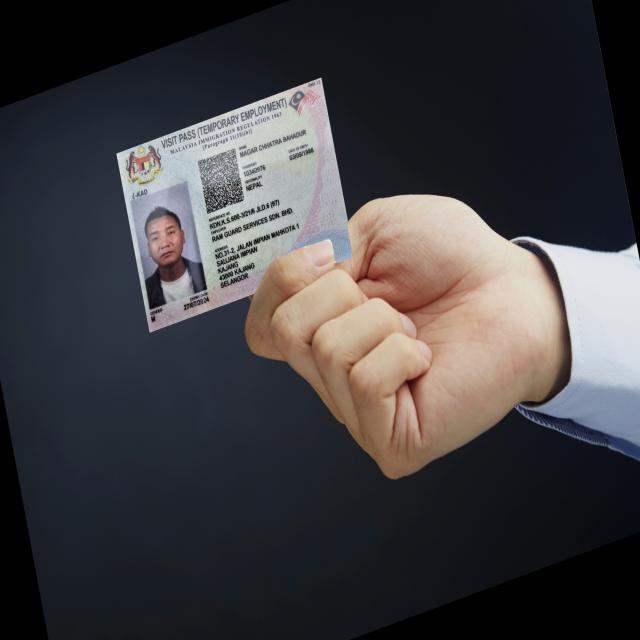ikad-temp: (115, 76, 352, 333)
